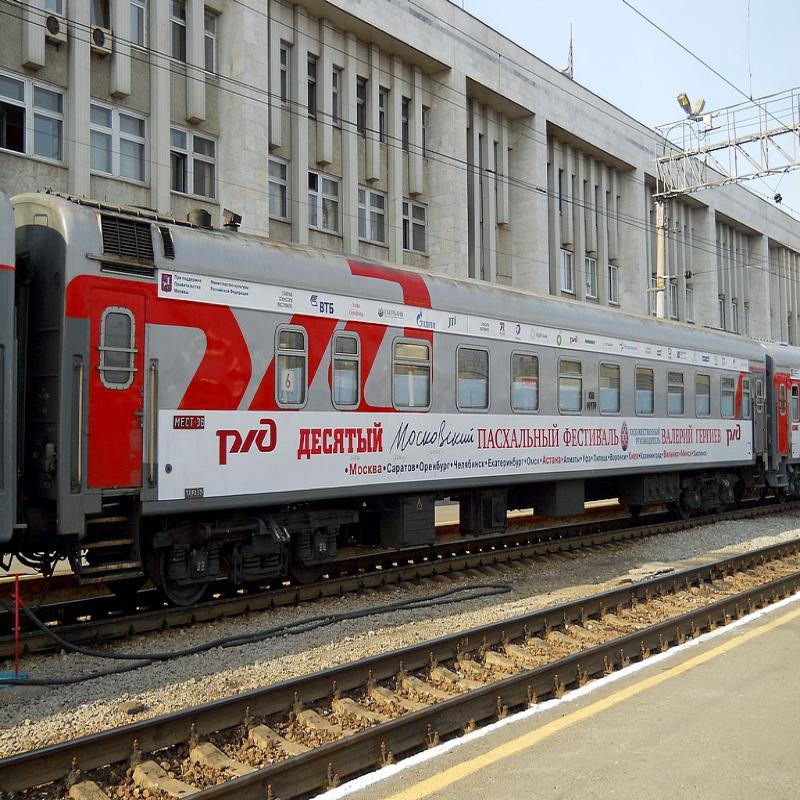train: (11, 133, 782, 599)
